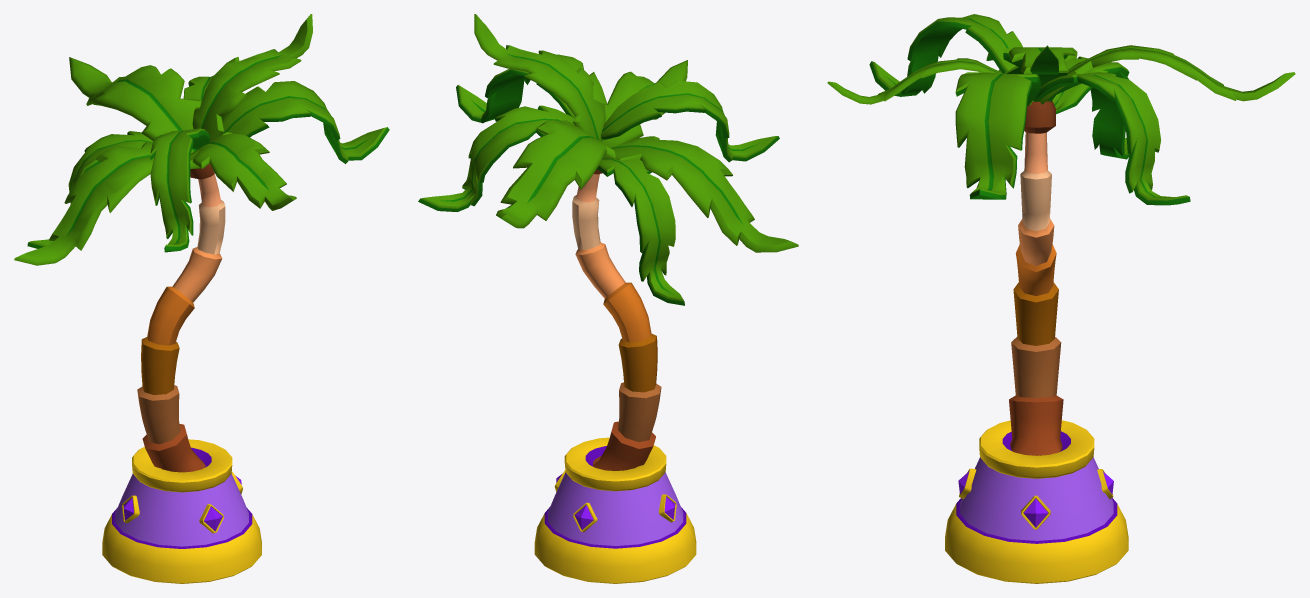
File: Palm1.fbx
3 renders of one model, left to right at view 1: azimuth 30°, elevation 25°; view 2: azimuth 150°, elevation 25°; view 3: azimuth 270°, elevation 25°, orthographic. The views are drawn at different scales.
Parts seen in each view (by area): view 1: Palm1_LOD0; view 2: Palm1_LOD0; view 3: Palm1_LOD0.
Part boxes in pixels (x1,y1,x2,y2): Palm1_LOD0: (14,14,389,583); Palm1_LOD0: (418,14,798,583); Palm1_LOD0: (827,14,1295,583).
Size of what is drawn, in the model's own units: 12.12 by 16.22 by 11.99.
